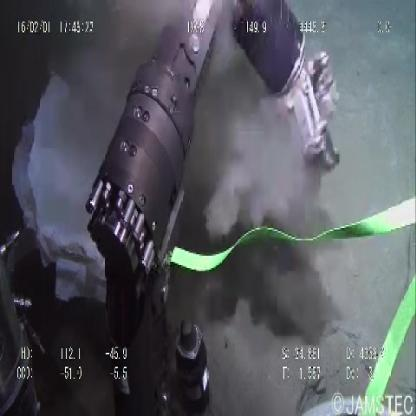Rov: (86, 4, 342, 404)
Rác: (7, 71, 112, 306)
